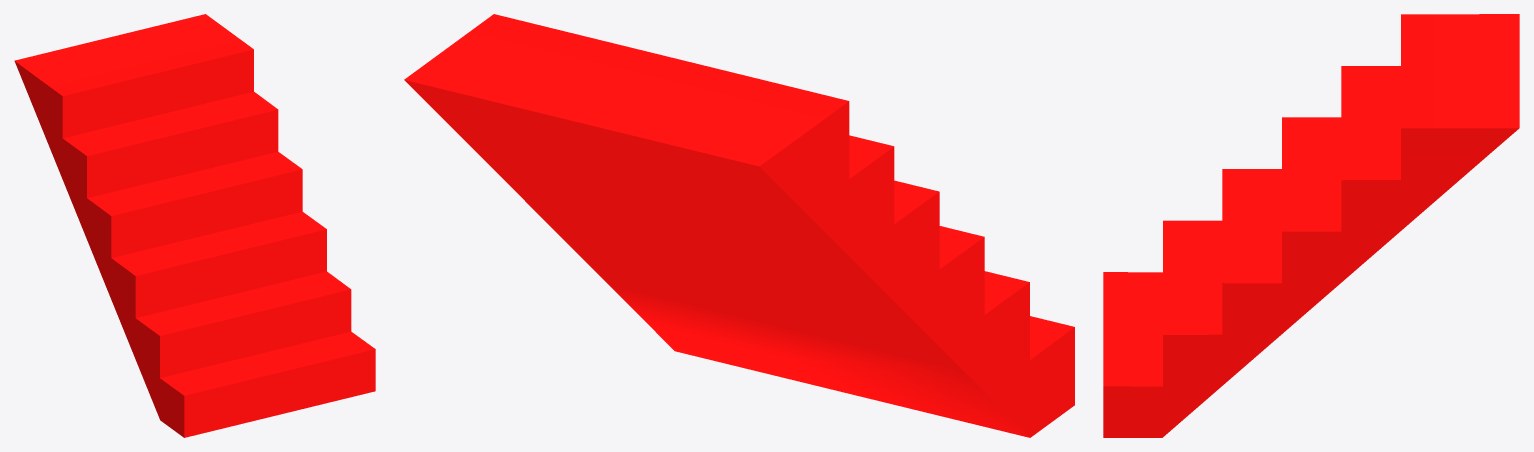
File: 555b030f-2a2b-4f56-a5b5-5f93fdf7ca6b.glb
The picture shows the model from 3 angles, left to right: view 1: azimuth 30°, elevation 25°; view 2: azimuth 150°, elevation 25°; view 3: azimuth 270°, elevation 25°; orthographic projection. The views are drawn at different scales.
Visible parts, largest first — view 1: BaseStairs.001; view 2: BaseStairs.001; view 3: BaseStairs.001.
Boxes of the visible parts, left/top/right/bottom form: BaseStairs.001: left=14, top=14, right=375, bottom=437; BaseStairs.001: left=404, top=14, right=1074, bottom=437; BaseStairs.001: left=1103, top=14, right=1519, bottom=437.
Size of what is drawn, in the model's own units: 1.36 by 1.71 by 2.09.
1 material, 1 textured.
